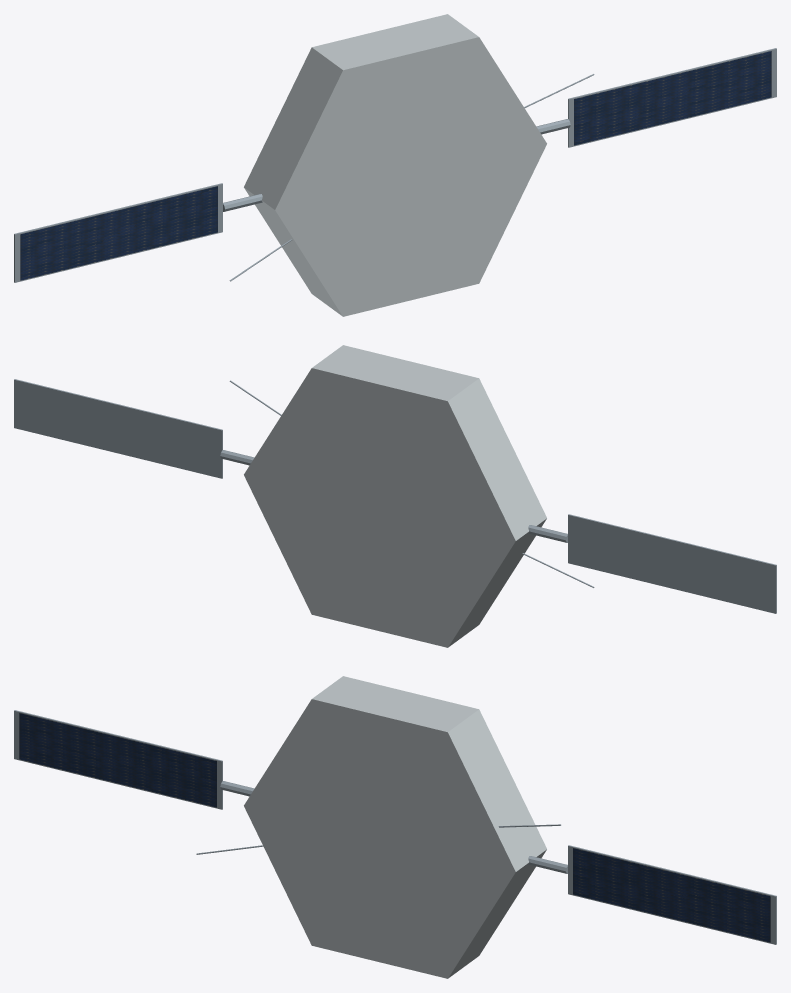
The model's file is ref-floating-potential-probe-28896.glb.
3 renders of one model, top to bottom at view 1: azimuth 30°, elevation 25°; view 2: azimuth 150°, elevation 25°; view 3: azimuth 330°, elevation 25°, orthographic.
Visible parts, largest first — view 1: Spacecraft body, Photovoltaic laminates (×2), Array frame (×2); view 2: Spacecraft body, Array frame (×2); view 3: Spacecraft body, Photovoltaic laminates (×2), Array frame (×2).
Part boxes in pixels (x1,y1,x2,y2): Spacecraft body: (244,14,546,316); Photovoltaic laminates (×2): (20,51,771,280); Array frame (×2): (14,48,776,282); Spacecraft body: (244,345,546,647); Array frame (×2): (14,379,776,613); Spacecraft body: (244,676,546,978); Photovoltaic laminates (×2): (19,713,770,942); Array frame (×2): (14,710,776,944).
Size of the model in its own units: 1.4 by 0.433 by 0.1041.
3 materials, 1 textured.
